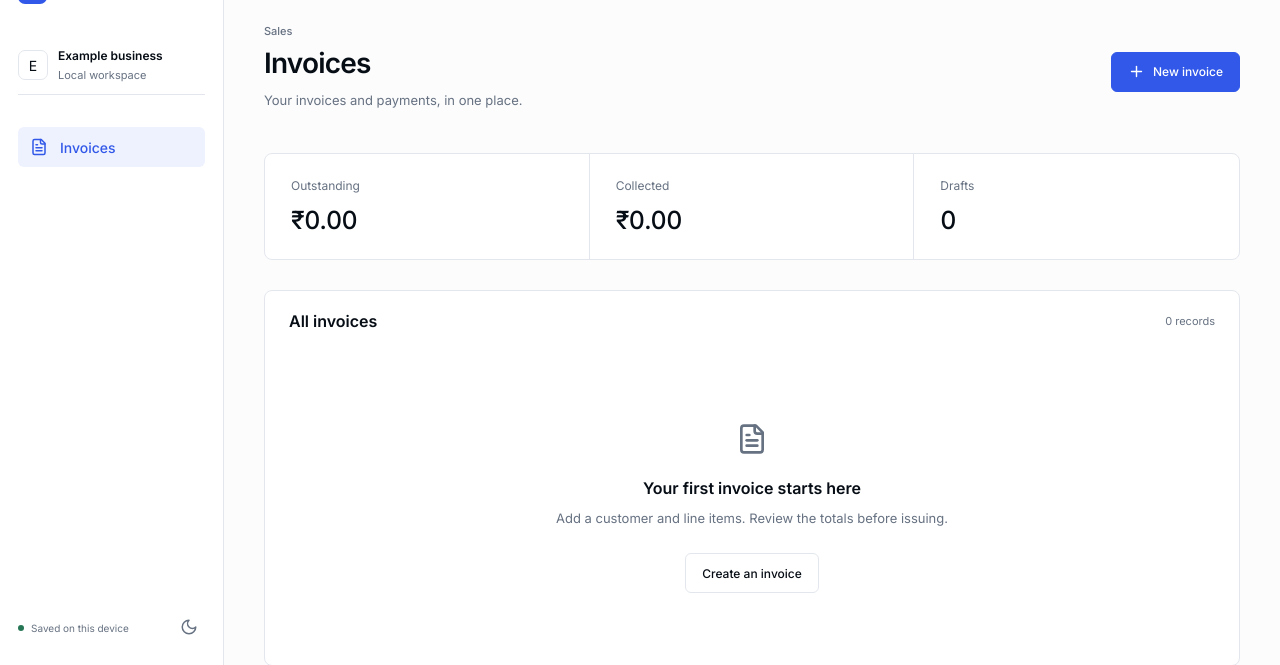
shows the persisted workspace and previews a new invoice
The width and height of the screenshot is (1280, 665).
Expected: the heading "Your first invoice starts here" is shown, x1=643 y1=478 x2=861 y2=498
Click the button "New invoice": (1176, 72) x1=1111 y1=52 x2=1240 y2=92
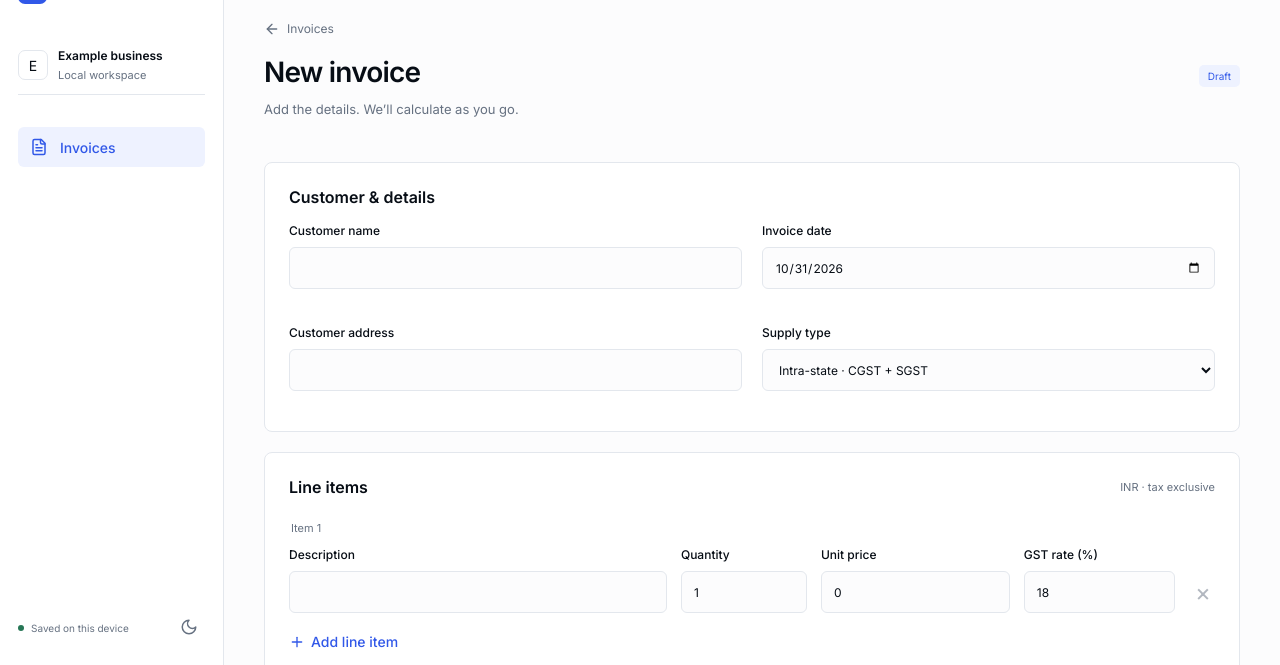
In the field labelled "Customer name": (516, 268) x1=289 y1=247 x2=742 y2=289, type "Example client"
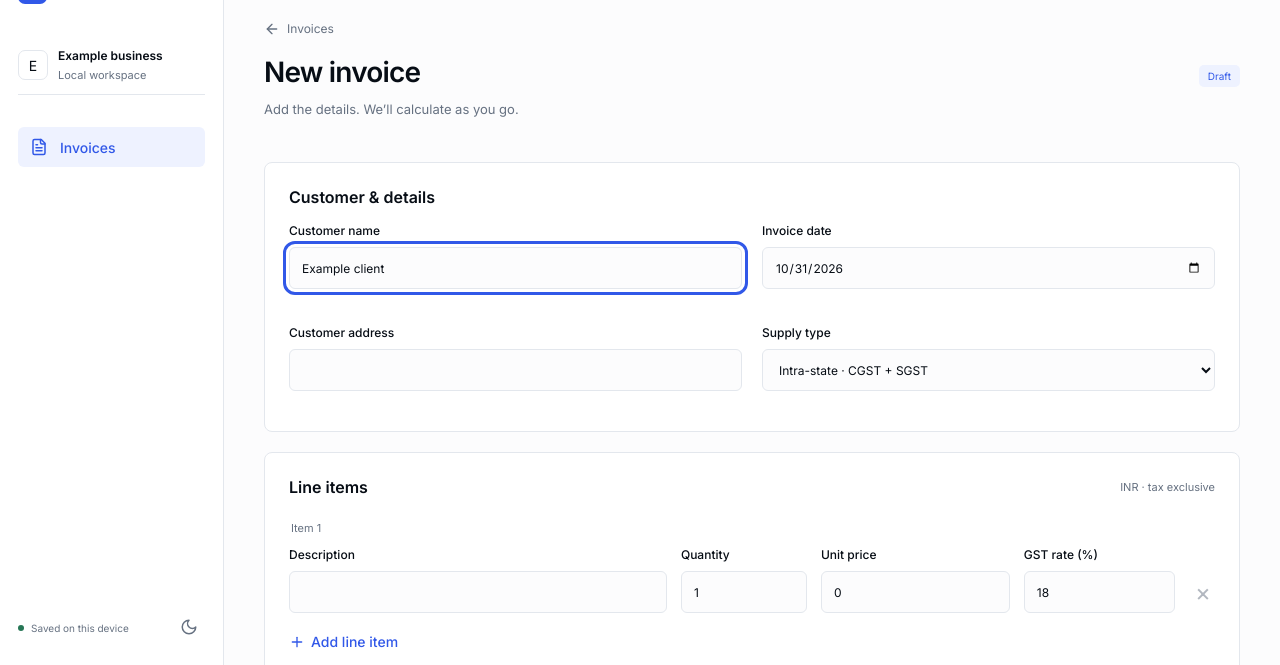
In the field labelled "Customer address": (516, 370) x1=289 y1=349 x2=742 y2=391, type "Mumbai"
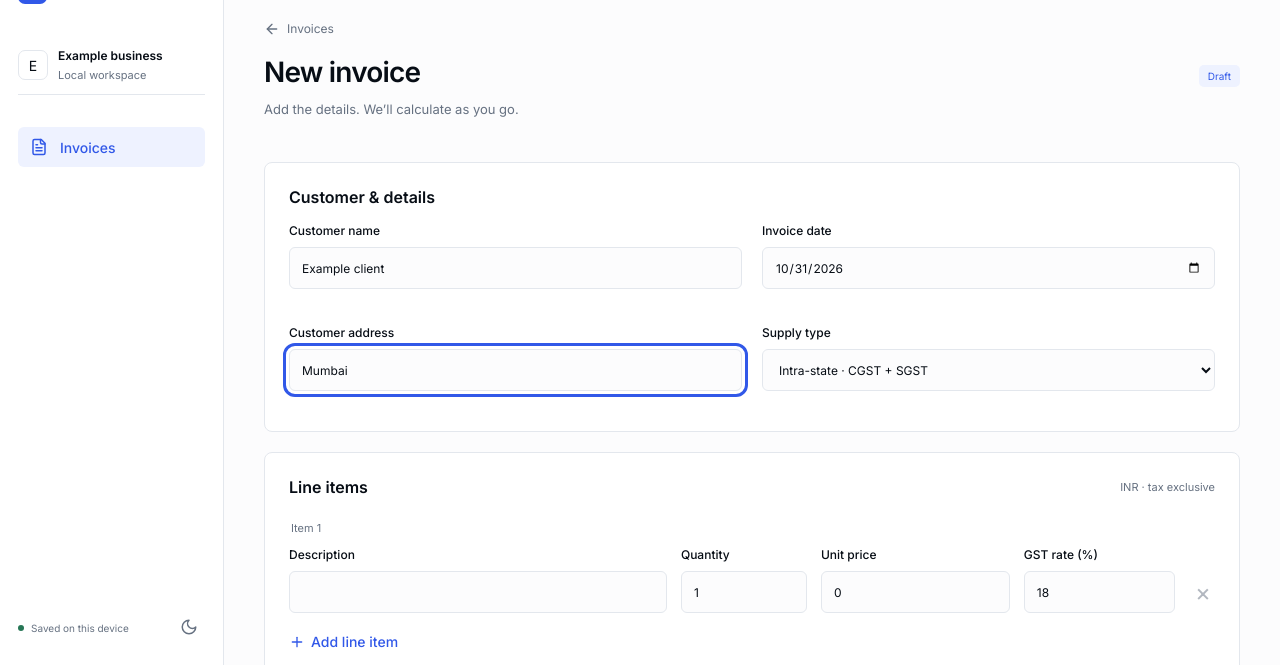
In the field named "Description 1": (478, 592) x1=289 y1=571 x2=667 y2=613, type "Consulting"
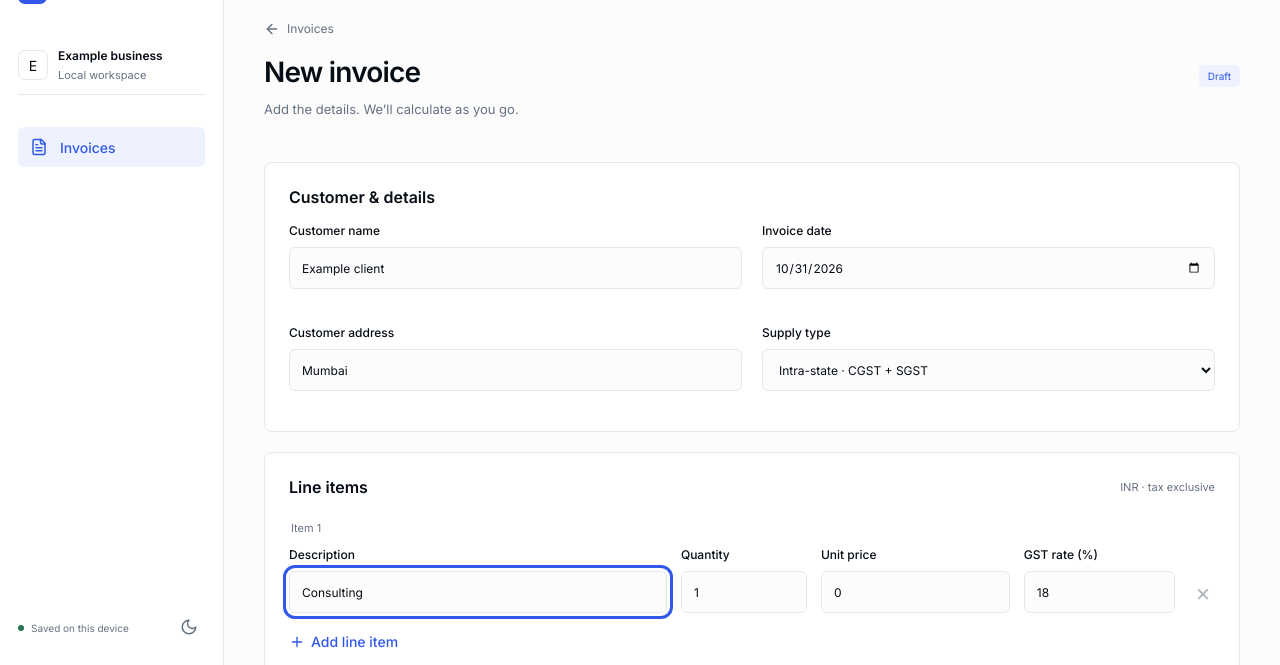
Replace the text in the field named "Unit price 1" with "100": (915, 592) x1=821 y1=571 x2=1010 y2=613
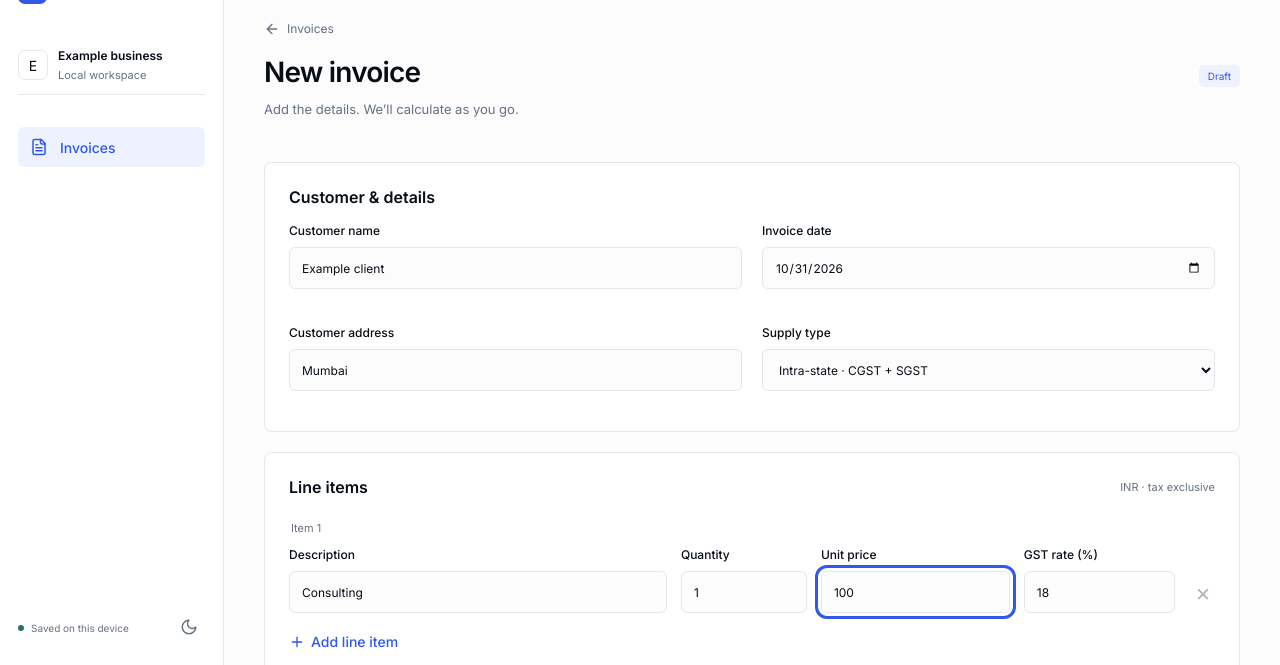
Select "Inter-state · IGST" in the dropdown labelled "Supply type": (988, 370) x1=762 y1=349 x2=1215 y2=391
(page scrolled)
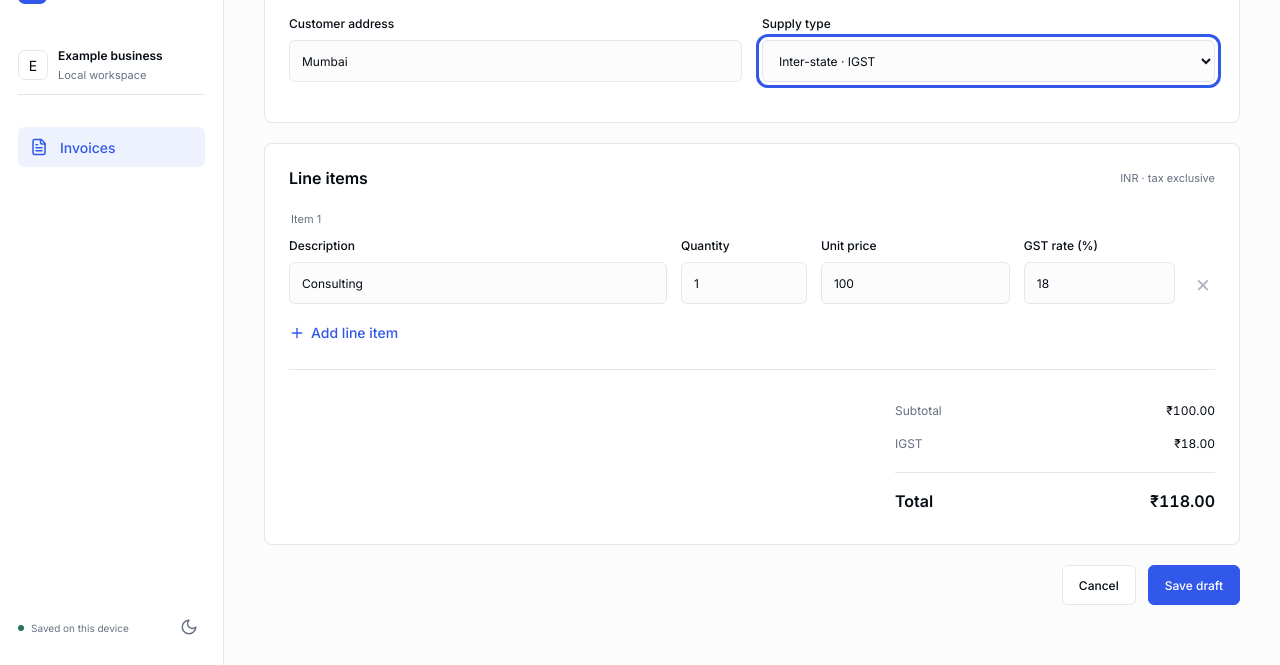
Result: the text "IGST" is shown at x1=895 y1=436 x2=923 y2=451
